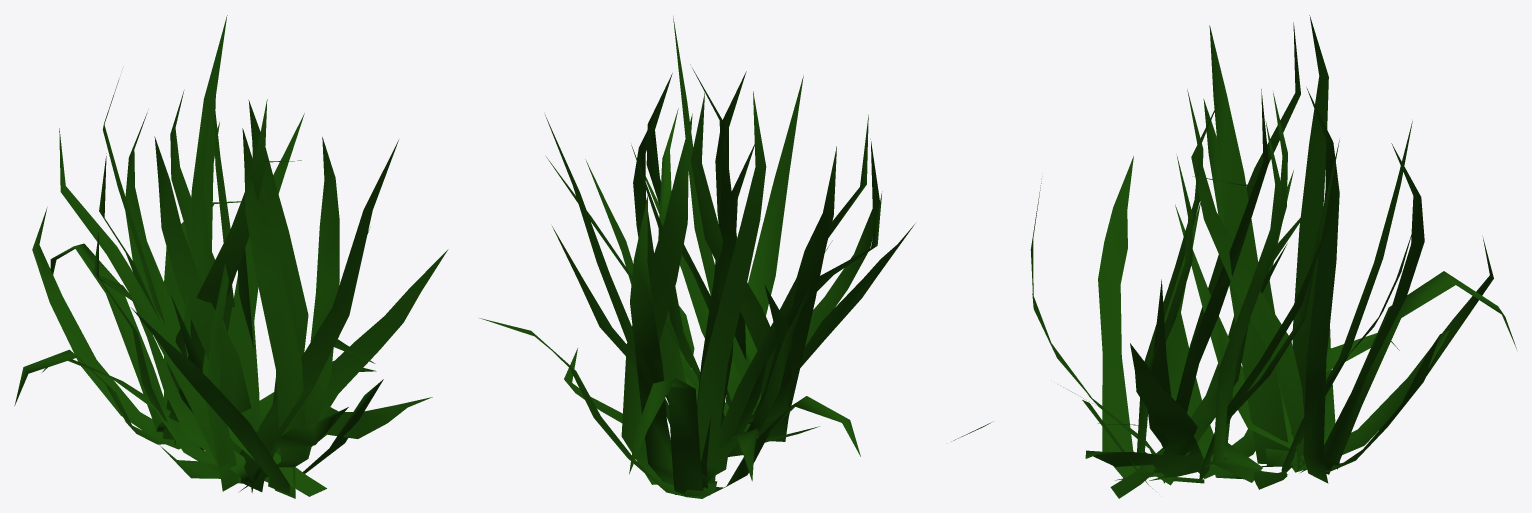
The model's file is grass.glb.
3 renders of one model, left to right at view 1: azimuth 30°, elevation 25°; view 2: azimuth 150°, elevation 25°; view 3: azimuth 270°, elevation 25°, orthographic. The views are drawn at different scales.
Visible parts, largest first — view 1: grass2; view 2: grass2; view 3: grass2.
Part boxes in pixels (x1,y1,x2,y2): grass2: (14,15,448,498); grass2: (479,16,915,498); grass2: (951,15,1516,498).
Bounding box in the file's own units: 1.4 × 1.5 × 1.84.
